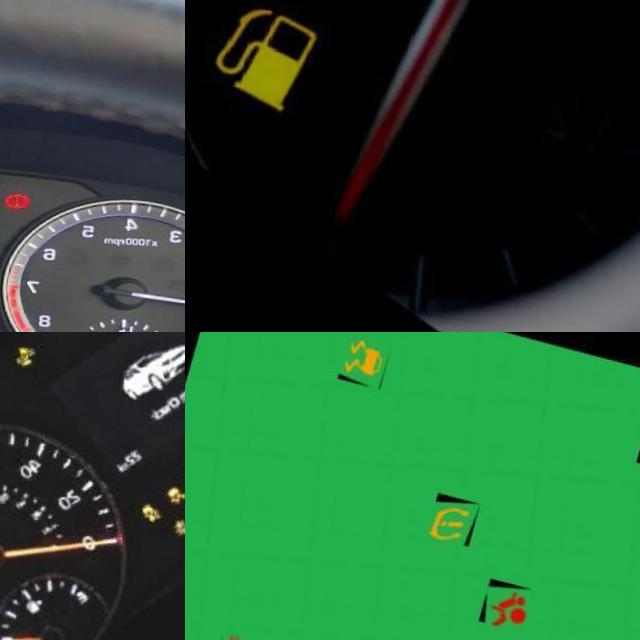Low fuel level: (197, 0, 347, 123), (25, 594, 44, 613)
